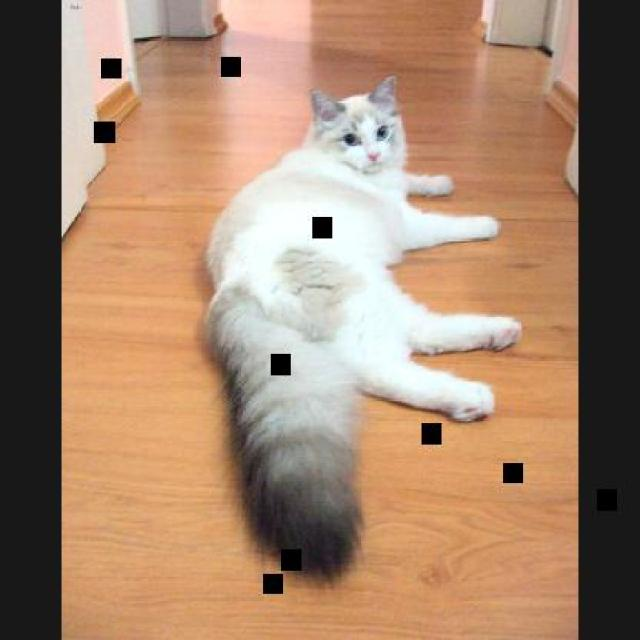unauthorized: (202, 74, 522, 586)
